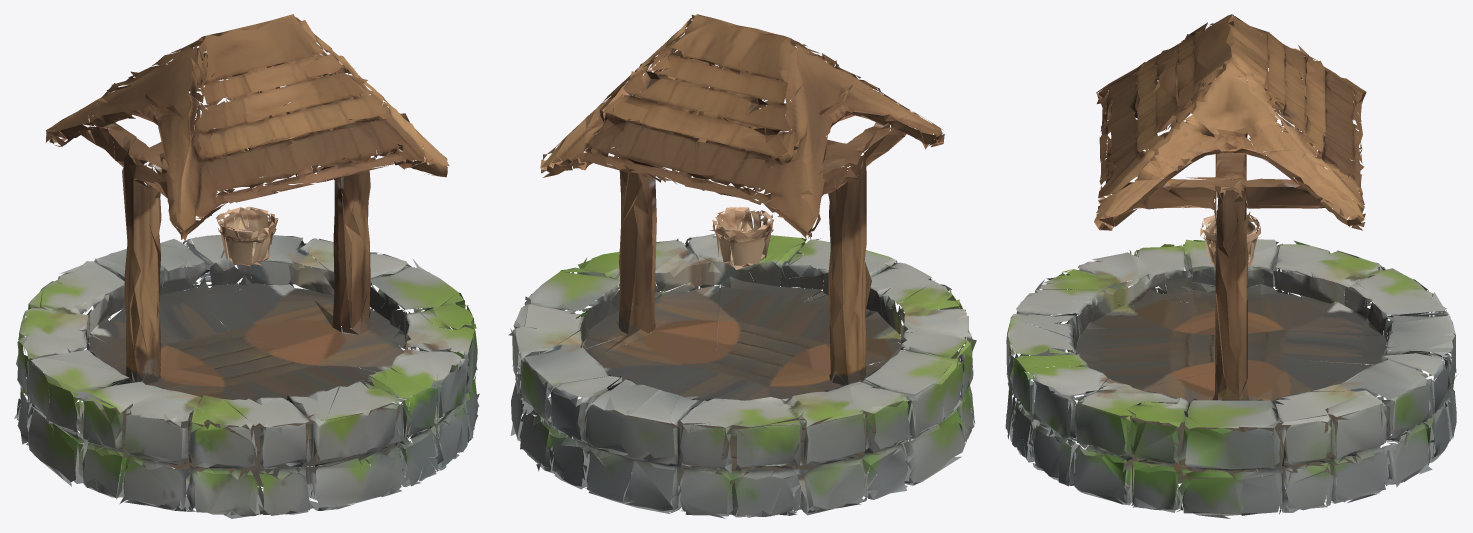
The model's file is Lab_Well.glb.
3 renders of one model, left to right at view 1: azimuth 30°, elevation 25°; view 2: azimuth 150°, elevation 25°; view 3: azimuth 270°, elevation 25°, orthographic. The views are drawn at different scales.
Visible parts, largest first — view 1: Lab_Well; view 2: Lab_Well; view 3: Lab_Well.
Part boxes in pixels (x1=…): Lab_Well: x1=14, y1=14, x2=479, y2=518; Lab_Well: x1=508, y1=14, x2=976, y2=518; Lab_Well: x1=1005, y1=14, x2=1456, y2=518.
Size of the model in its own units: 2.13 by 2.04 by 2.12.
Materials: 1 (1 with a texture image).
